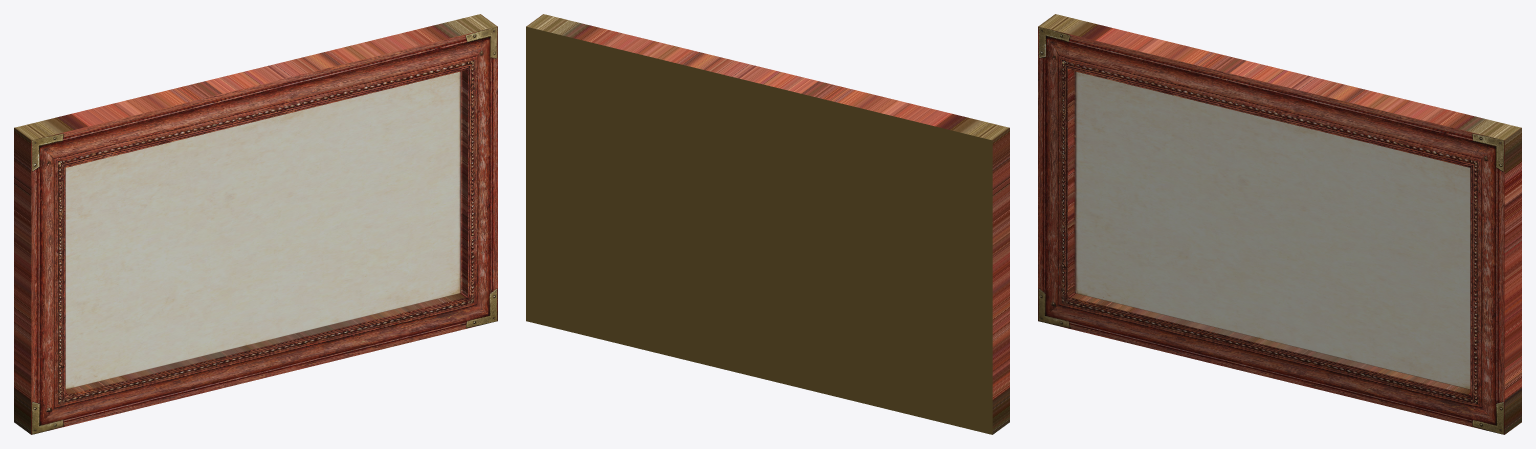
File: panel_result.glb
The picture shows the model from 3 angles, left to right: view 1: azimuth 30°, elevation 25°; view 2: azimuth 150°, elevation 25°; view 3: azimuth 330°, elevation 25°; orthographic projection.
Visible parts, largest first — view 1: panel_result; view 2: panel_result; view 3: panel_result.
Part boxes in pixels (x1,y1,x2,y2): panel_result: [14, 14, 497, 434]; panel_result: [526, 14, 1009, 434]; panel_result: [1038, 14, 1521, 434].
Bounding box in the file's own units: 0.58 × 0.35 × 0.042.
1 material, 1 textured.
